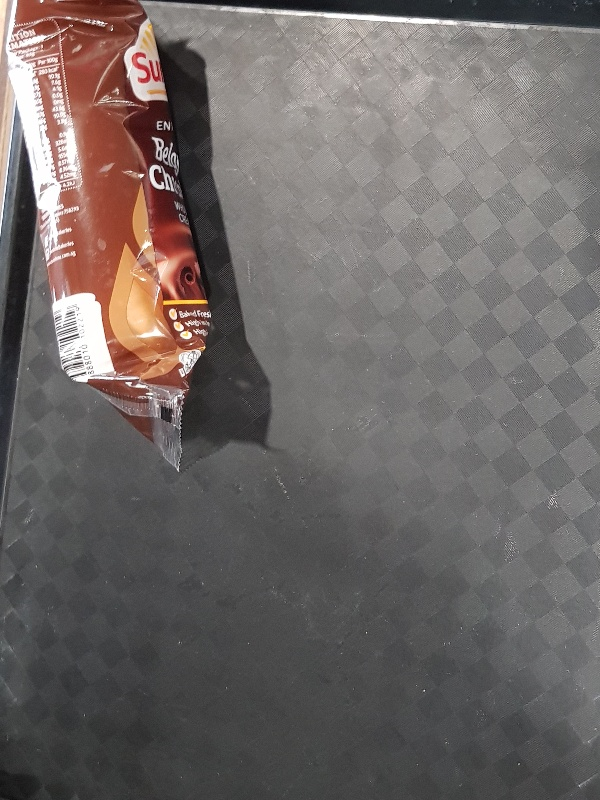Sunshine Belgium Chocolate Wholemeal Cream Bun: (3, 1, 212, 474)
